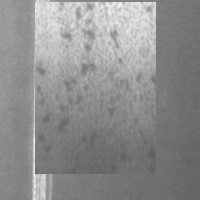pitted_surface: (35, 2, 156, 174)
scratches: (28, 1, 55, 199)
